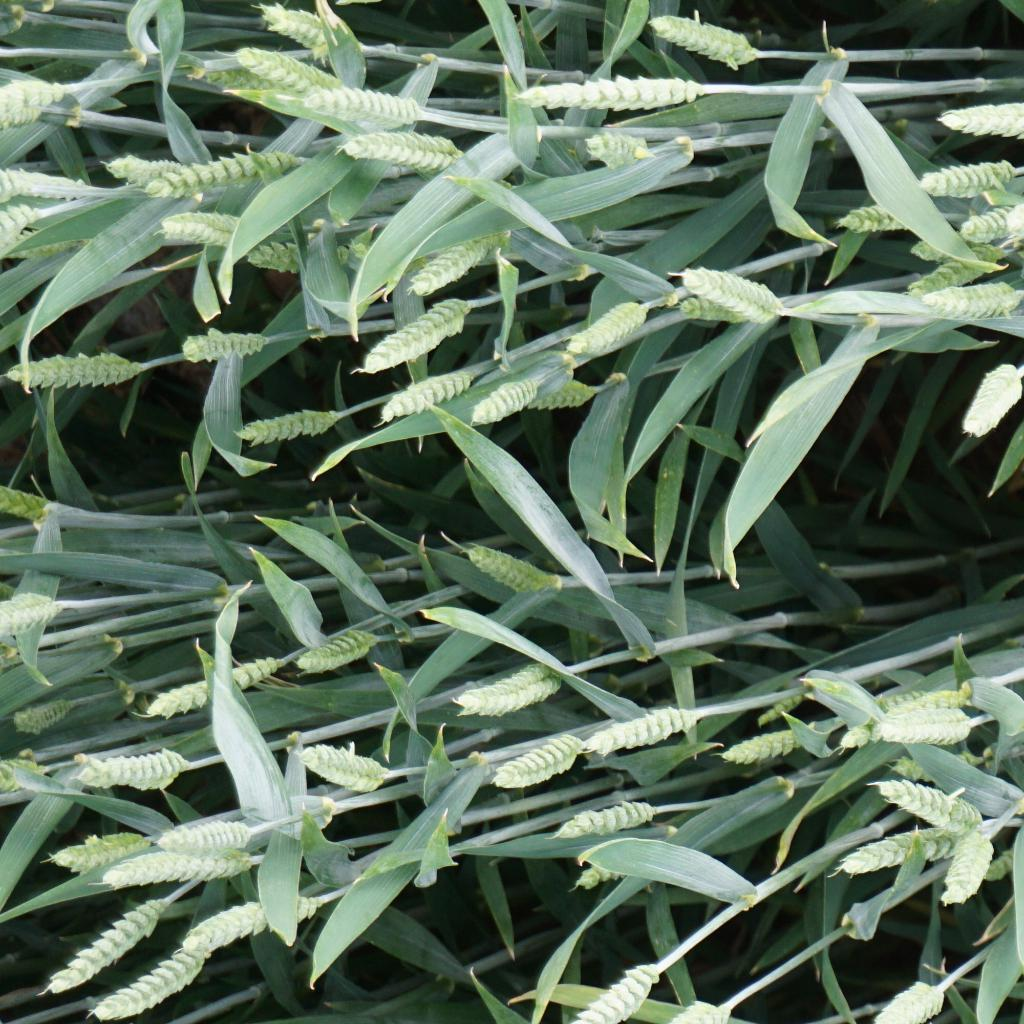0-0: (35, 884, 177, 999), (828, 675, 980, 755), (84, 932, 216, 1022), (137, 645, 288, 719), (352, 292, 476, 379), (176, 887, 337, 954), (91, 844, 265, 897), (668, 253, 796, 324), (828, 816, 973, 878), (136, 143, 300, 197), (644, 4, 764, 75), (442, 540, 574, 604), (452, 651, 566, 725), (500, 71, 704, 111), (860, 774, 991, 836), (580, 697, 701, 763), (491, 718, 586, 800), (233, 42, 350, 106), (563, 953, 668, 1024), (561, 283, 659, 359), (409, 228, 508, 300), (373, 359, 481, 424), (5, 348, 152, 392), (284, 741, 395, 798), (904, 245, 1016, 300), (232, 395, 345, 449), (712, 715, 816, 773), (869, 705, 992, 752), (951, 361, 1024, 440), (156, 814, 275, 862), (552, 791, 661, 843), (342, 130, 463, 176), (43, 825, 152, 876), (301, 86, 423, 131), (73, 749, 193, 794), (903, 287, 1024, 331), (297, 617, 387, 676), (254, 0, 334, 65), (868, 971, 961, 1024), (0, 73, 71, 142), (242, 235, 359, 276), (939, 827, 996, 911), (918, 155, 1024, 200), (468, 365, 542, 429), (152, 210, 263, 251), (823, 200, 931, 241), (932, 97, 1024, 145), (176, 325, 272, 369), (879, 752, 1009, 784), (193, 62, 285, 107), (576, 128, 652, 182), (0, 584, 65, 647), (573, 847, 658, 892), (102, 147, 193, 188), (960, 198, 1024, 256), (5, 695, 89, 738), (0, 161, 89, 200), (0, 477, 68, 527), (521, 375, 604, 414), (666, 296, 751, 328), (757, 680, 819, 722), (0, 201, 41, 254), (997, 181, 1024, 242), (869, 689, 942, 710), (909, 237, 961, 265)
